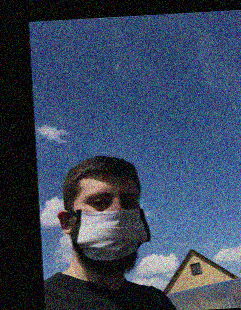with_mask: (75, 185, 149, 273)
